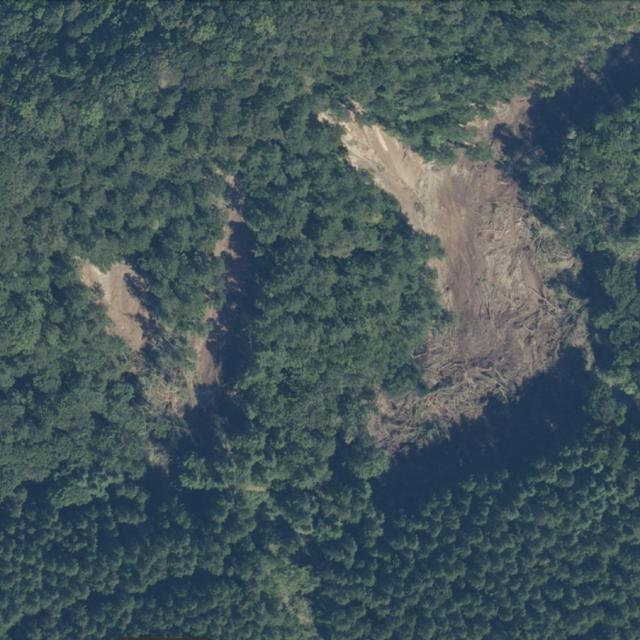landslide: (321, 113, 587, 453), (79, 260, 149, 352)
